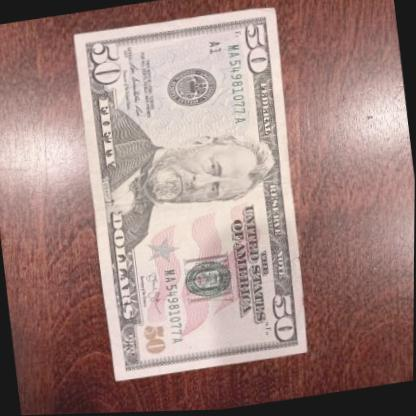fifty-front: (68, 3, 318, 385)
